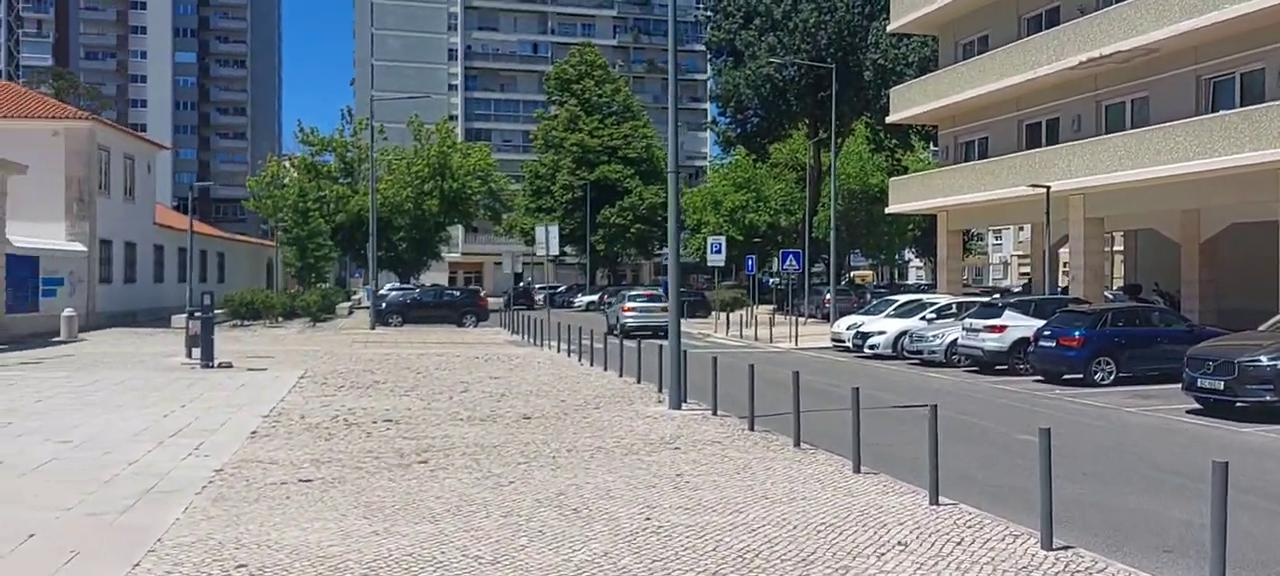Passagem para peoes: (776, 245, 804, 272)
